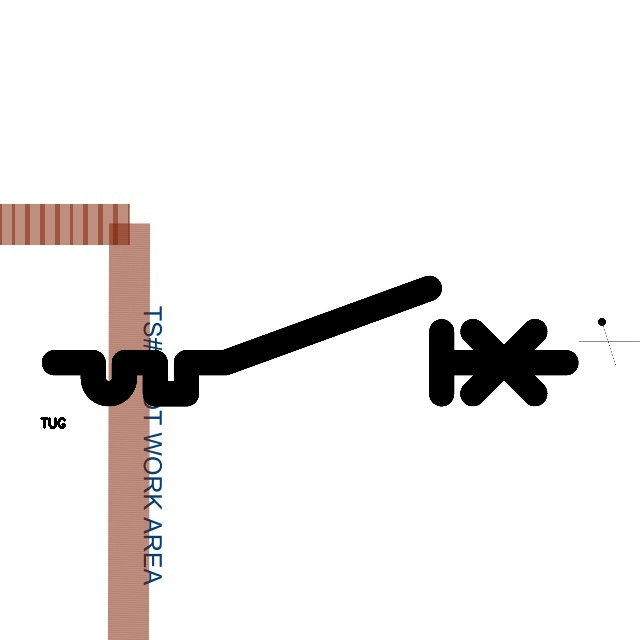interruptor_termomagnetico: (41, 275, 579, 407)
